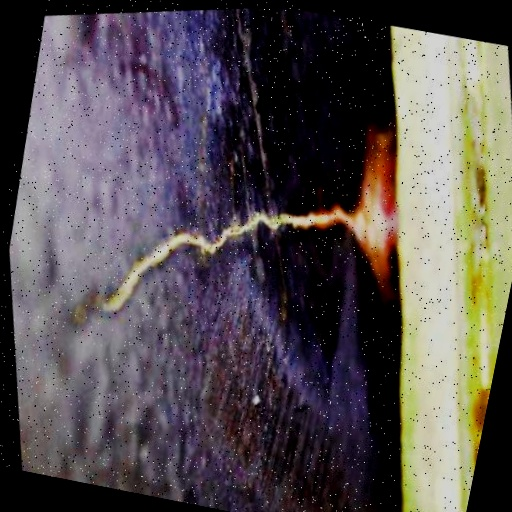crack: (0, 178, 187, 355)
